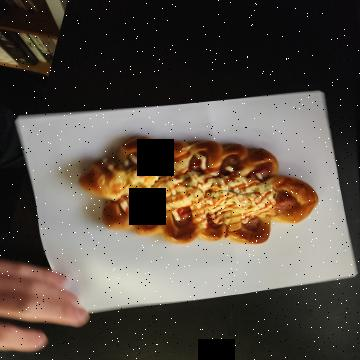pizza_bread: (136, 38, 247, 279)
